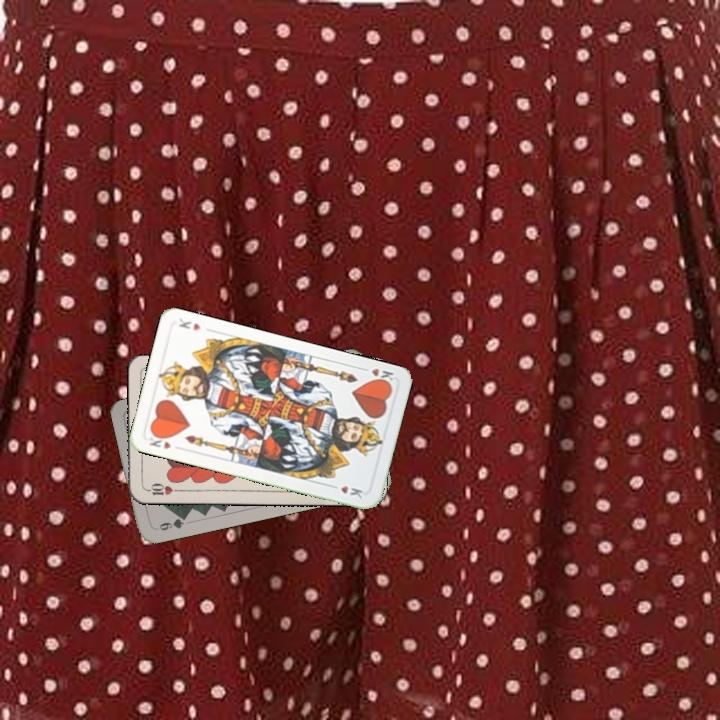G9: (151, 512, 190, 533)
H10: (142, 479, 182, 498)
HK: (357, 363, 397, 387), (145, 430, 173, 452)
